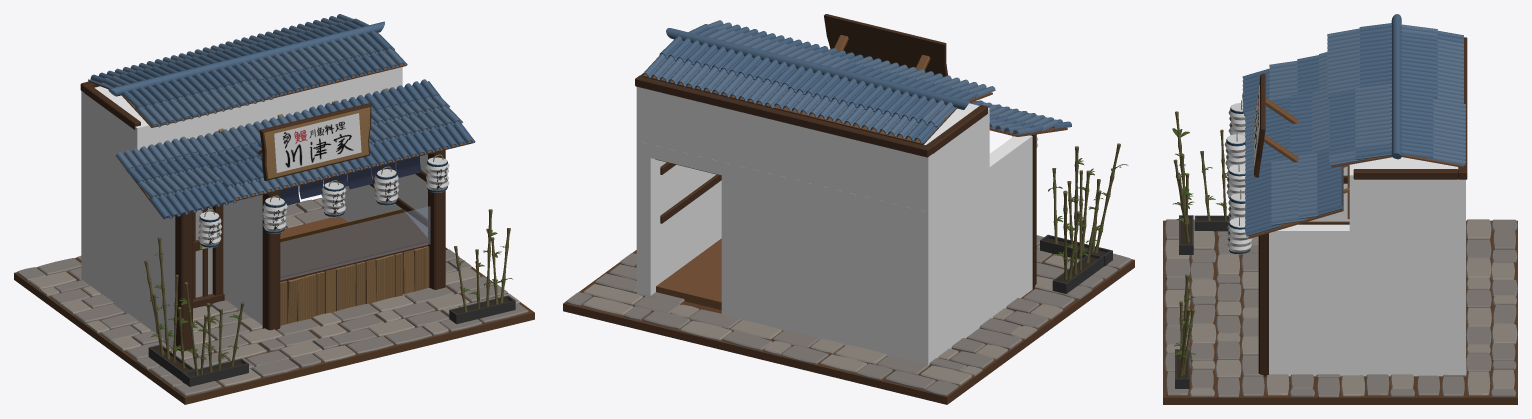
The model's file is escaparate.glb.
The picture shows the model from 3 angles, left to right: view 1: azimuth 30°, elevation 25°; view 2: azimuth 150°, elevation 25°; view 3: azimuth 270°, elevation 25°; orthographic projection. The views are drawn at different scales.
Parts seen in each view (by area): view 1: pCube52, pCube53, polySurface53, pCube112, pCube48, pCube49, pCube1, pCube42, pCube154, polySurface647, polySurface649, polySurface64 (+46 smaller); view 2: pCube52, pCube53, pCube1, pCube62, pCube140, polySurface653, polySurface655, polySurface654, polySurface652, pCube204, pCylinder1, polySurface647 (+27 smaller); view 3: pCube52, pCube53, pCube1, polySurface647, polySurface653, polySurface655, polySurface654, polySurface649, polySurface648, polySurface78, polySurface64, pCube62 (+79 smaller).
Boxes of the visible parts, box(x1,y1,x2,y2) form: pCube52: box(81, 142, 427, 347); pCube53: box(81, 67, 402, 179); polySurface53: box(280, 246, 429, 325); pCube112: box(175, 150, 445, 351); pCube48: box(280, 206, 430, 280); pCube49: box(280, 209, 429, 277); pCube1: box(14, 198, 534, 404); pCube42: box(223, 194, 262, 325); pCube154: box(274, 113, 361, 172); polySurface647: box(241, 34, 378, 81); polySurface649: box(135, 79, 273, 127); polySurface64: box(348, 121, 475, 170); pCube52: box(636, 135, 1032, 365); pCube53: box(636, 87, 989, 212); pCube1: box(563, 250, 1134, 404); pCube62: box(635, 74, 987, 157); pCube140: box(824, 14, 947, 76); polySurface653: box(788, 68, 936, 122); polySurface655: box(642, 53, 788, 108); polySurface654: box(659, 36, 805, 87); polySurface652: box(774, 88, 918, 139); pCube204: box(656, 238, 721, 309); pCylinder1: box(666, 28, 969, 109); polySurface647: box(706, 28, 849, 68); pCube52: box(1269, 224, 1465, 376); pCube53: box(1349, 157, 1465, 230); pCube1: box(1163, 220, 1517, 404); polySurface647: box(1355, 83, 1391, 148); polySurface653: box(1401, 32, 1437, 98); polySurface655: box(1428, 98, 1465, 165); polySurface654: box(1401, 93, 1433, 158); polySurface649: box(1327, 28, 1359, 97); polySurface648: box(1359, 23, 1391, 87); polySurface78: box(1271, 159, 1307, 225); polySurface64: box(1245, 165, 1281, 236); pCube62: box(1353, 37, 1467, 179).
Size of the model in its own units: 17.25 by 10.57 by 14.6.
25 materials, 2 textured.
